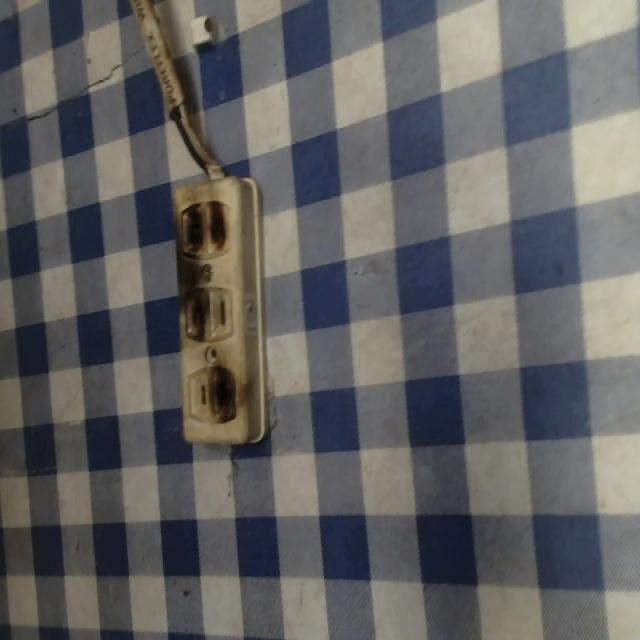-: (175, 196, 231, 257), (179, 281, 214, 343), (207, 363, 238, 425)
